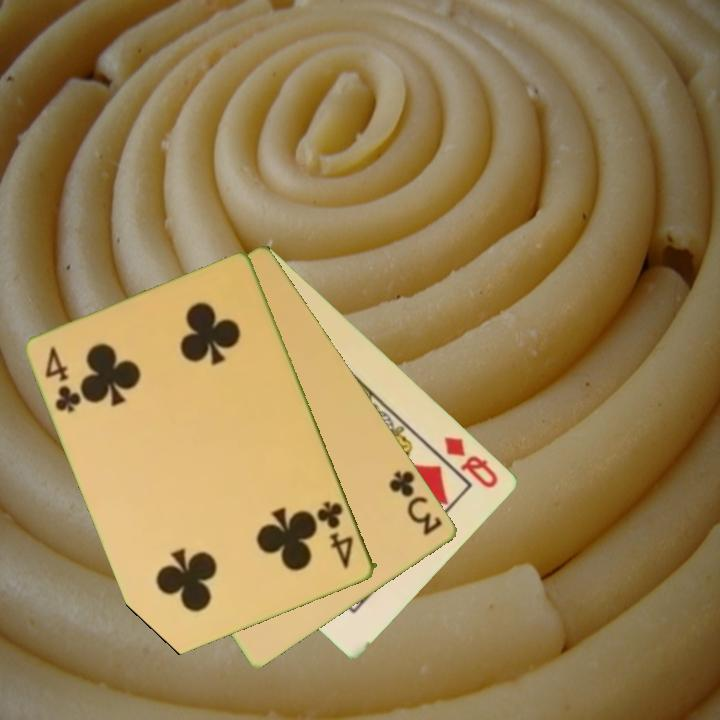3c: (386, 467, 446, 539)
4c: (41, 343, 85, 416), (314, 498, 357, 572)
Qd: (441, 432, 502, 492)
